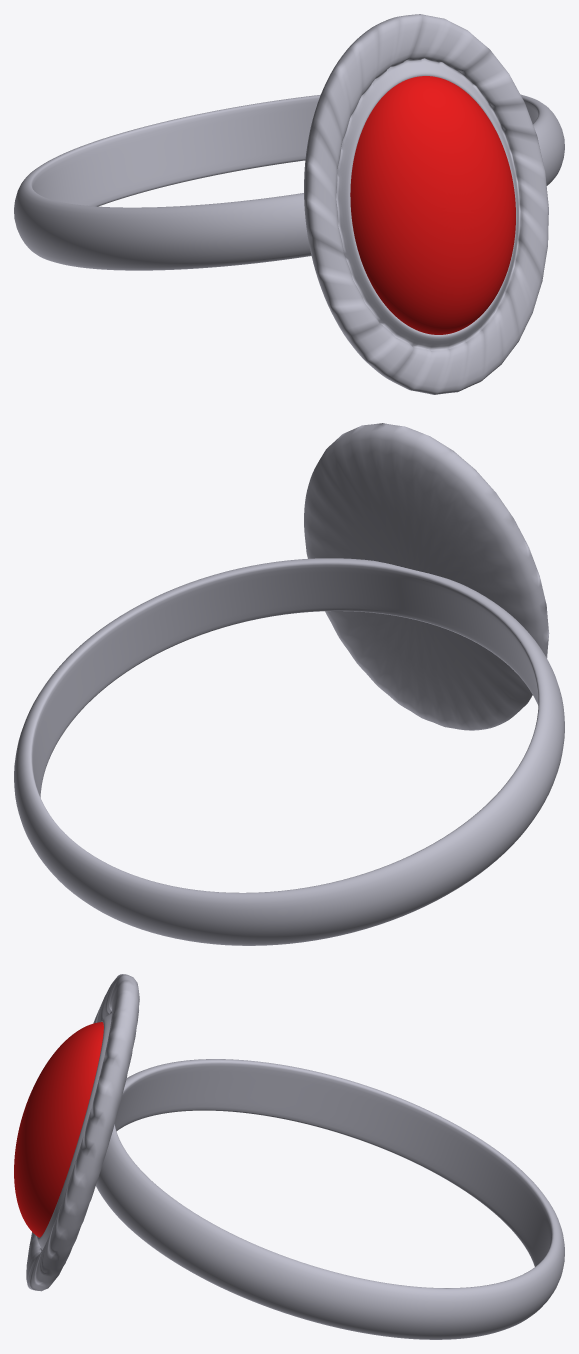
Rendered from Eclipse_Ruby_Ring.glb.
The picture shows the model from 3 angles, top to bottom: view 1: azimuth 30°, elevation 25°; view 2: azimuth 150°, elevation 25°; view 3: azimuth 270°, elevation 25°; orthographic projection. The views are drawn at different scales.
Parts seen in each view (by area): view 1: Ring_Base, Ring, Ruby; view 2: Ring, Ring_Base; view 3: Ring, Ring_Base, Ruby.
Part boxes in pixels (x1=…): Ring_Base: x1=304, y1=14, x2=548, y2=394; Ring: x1=14, y1=94, x2=564, y2=270; Ruby: x1=350, y1=76, x2=515, y2=334; Ring: x1=14, y1=558, x2=564, y2=945; Ring_Base: x1=304, y1=423, x2=549, y2=730; Ring: x1=96, y1=1059, x2=564, y2=1339; Ring_Base: x1=26, y1=974, x2=139, y2=1291; Ruby: x1=14, y1=1022, x2=103, y2=1237.
Size of the model in its own units: 0.0458 by 0.0308 by 0.0509.
